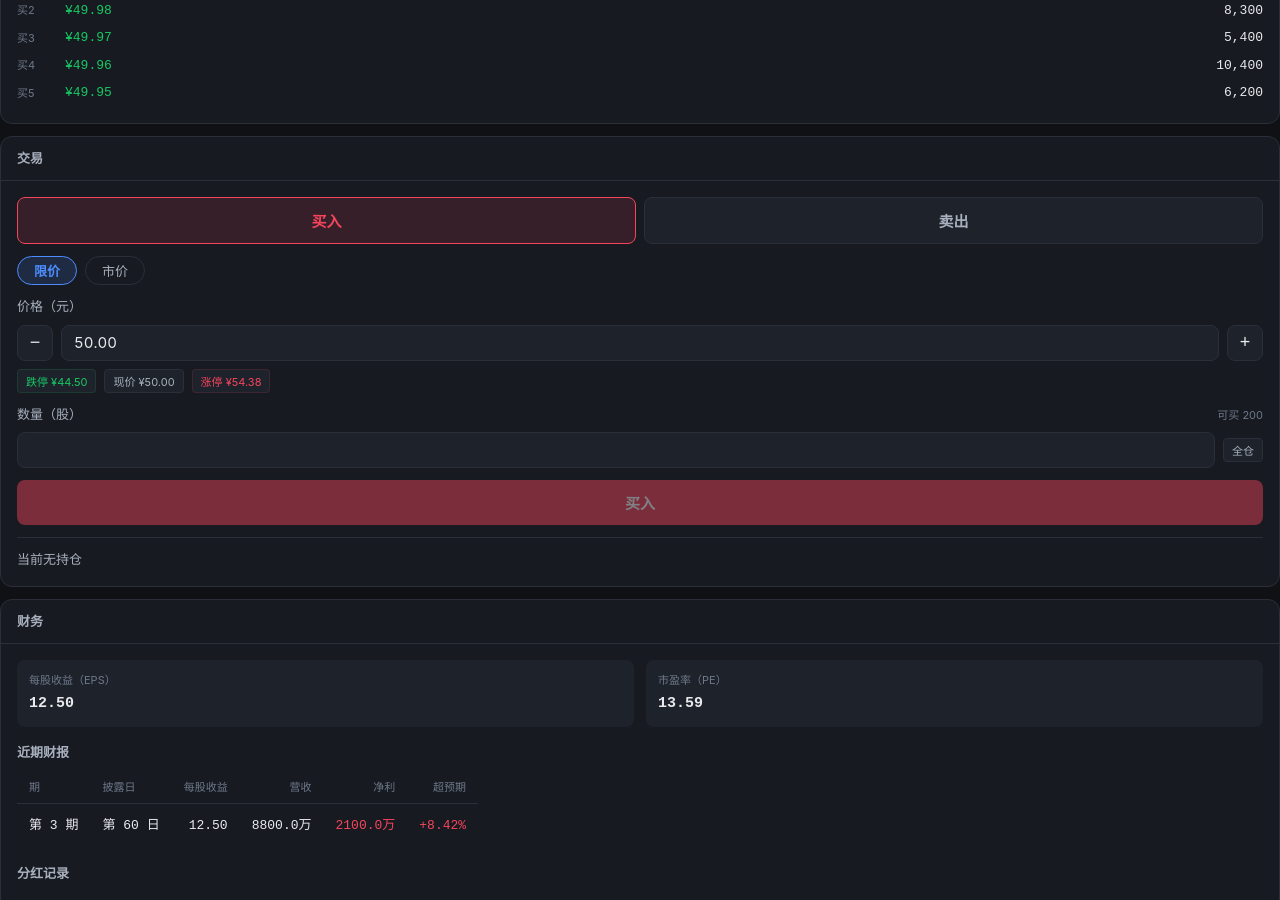
Stock 下单 › 幂等命中时提示「委托已存在」
(page scrolled)
Type "100" into the number field with test id "qty-input" at (616,450), box [17,432,1215,468]
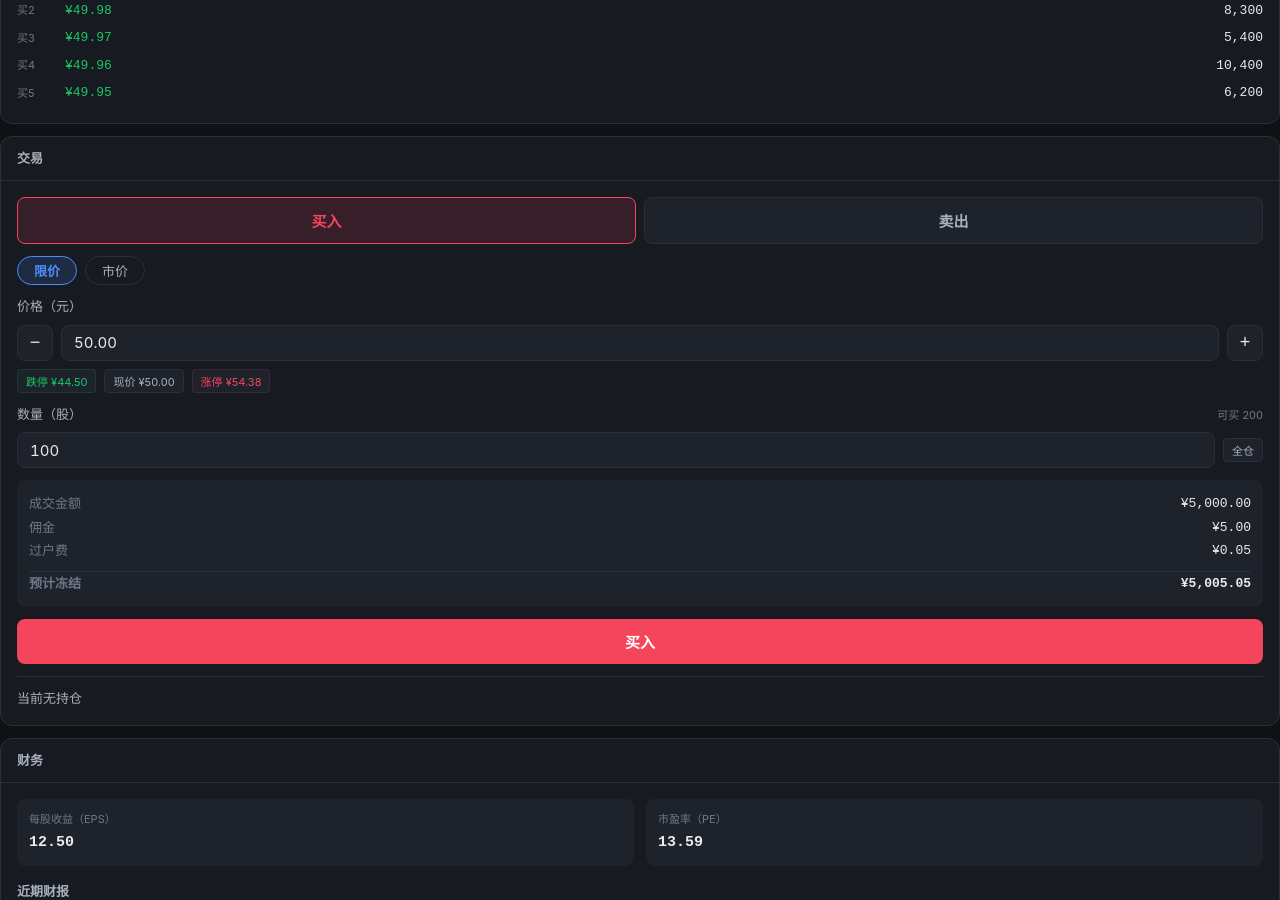
Click the button with test id "submit-order" at (640,642), box [17,619,1263,664]
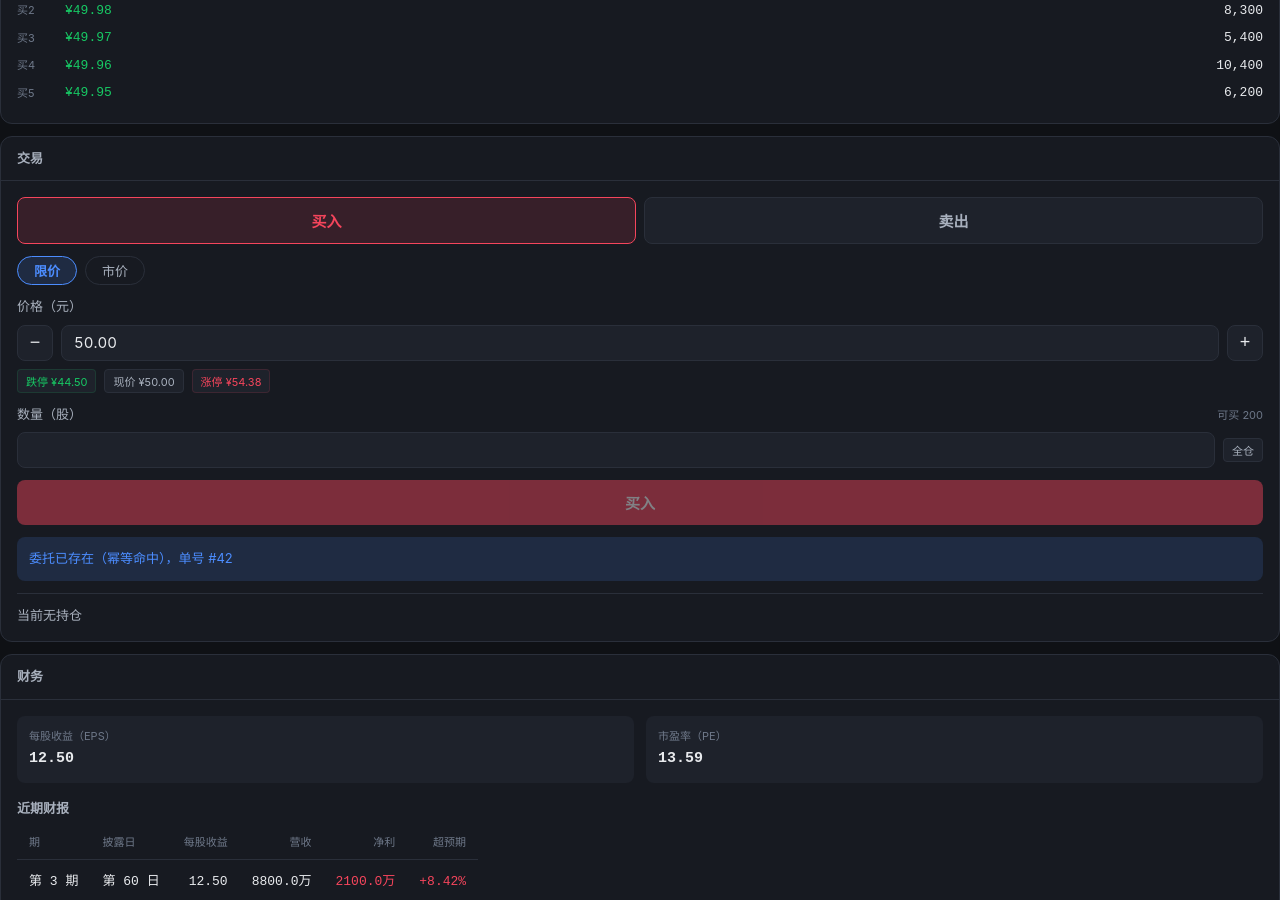
expect the text "委托已存在（幂等命中），单号 #42" is shown: met, box [17,537,1263,580]
